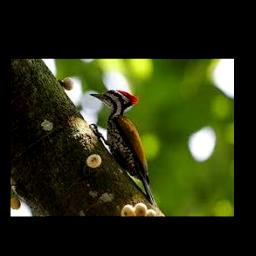Woodpecker: (89, 90, 156, 205)
